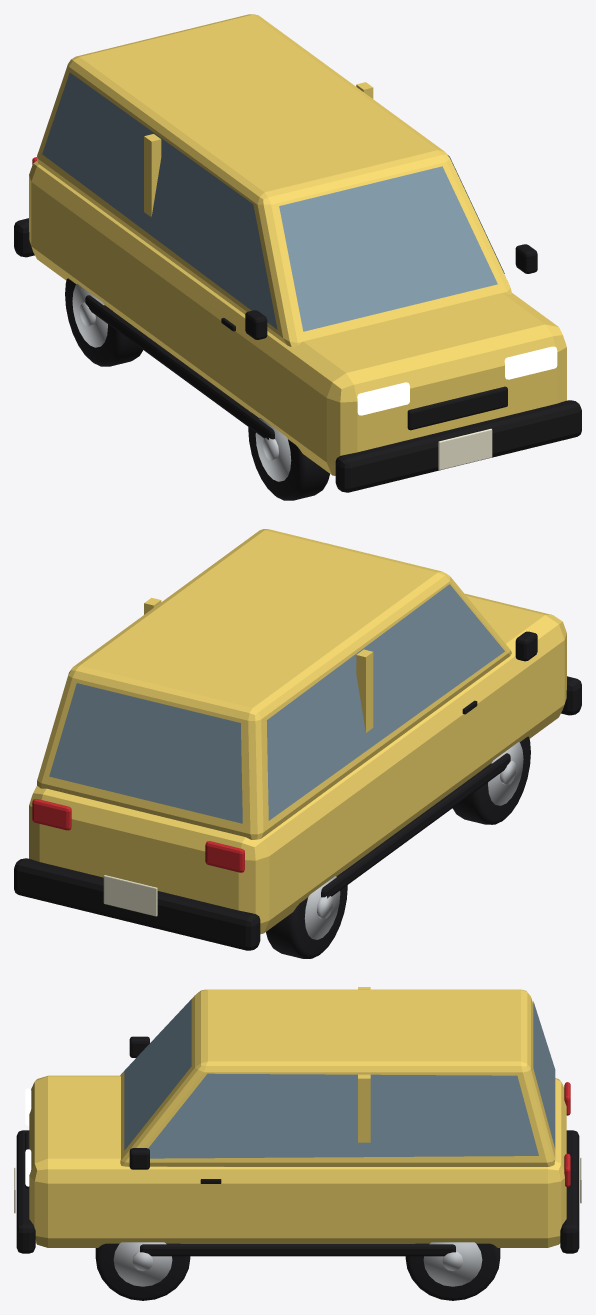
Rendered from kcar.glb.
3 renders of one model, top to bottom at view 1: azimuth 30°, elevation 25°; view 2: azimuth 150°, elevation 25°; view 3: azimuth 270°, elevation 25°, orthographic. The views are drawn at different scales.
Parts seen in each view (by area): view 1: kcarBody, wheelFR, wheelRR; view 2: kcarBody, wheelRR, wheelFR; view 3: kcarBody, wheelFL, wheelRL.
Boxes of the visible parts, x1,y1,x2,y2 form: kcarBody: (14, 14, 581, 492); wheelFR: (248, 413, 329, 500); wheelRR: (65, 278, 142, 366); kcarBody: (14, 529, 581, 950); wheelRR: (266, 871, 347, 958); wheelFR: (452, 736, 530, 824); kcarBody: (14, 987, 581, 1256); wheelFL: (95, 1242, 190, 1300); wheelRL: (405, 1242, 500, 1300).
Bounding box in the file's own units: 1.75 × 1.6 × 3.59.
